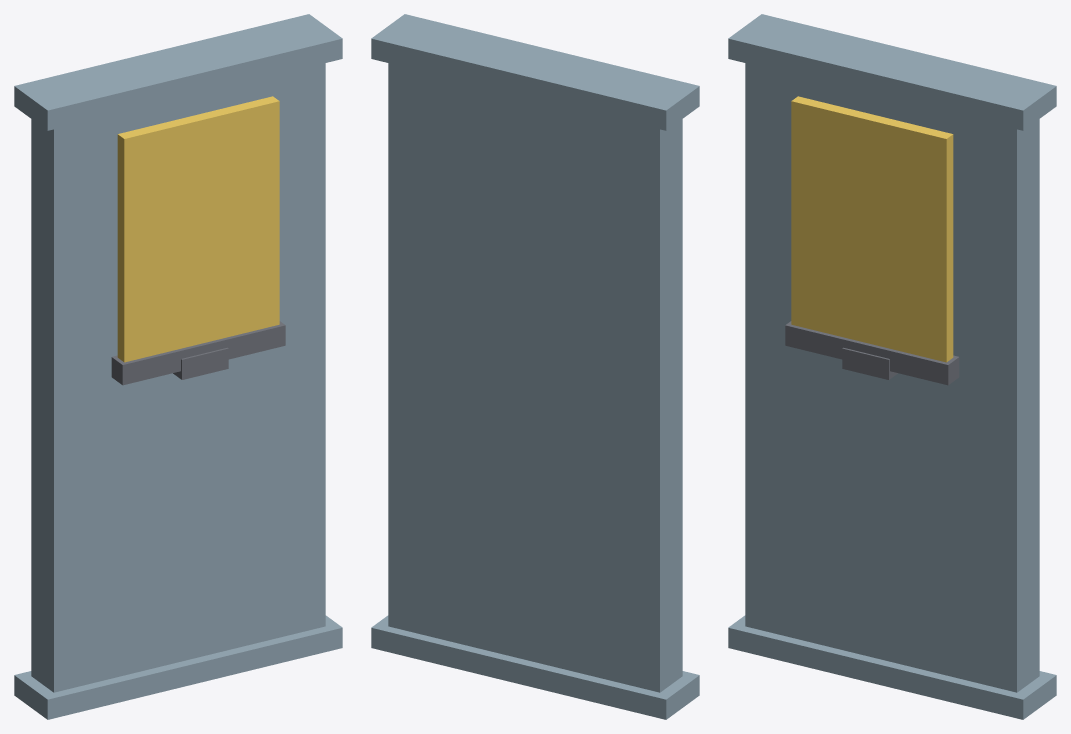
File: animated-mechanisms-kit-keypad-flip-cover-ce4ba164__24637.glb
The picture shows the model from 3 angles, left to right: view 1: azimuth 30°, elevation 25°; view 2: azimuth 150°, elevation 25°; view 3: azimuth 330°, elevation 25°; orthographic projection.
Visible parts, largest first — view 1: keypad-flip-cover, cover/accent, cover/iron; view 2: keypad-flip-cover; view 3: keypad-flip-cover, cover/accent, cover/iron.
Part boxes in pixels (bbox=[...]): keypad-flip-cover: bbox=[14, 14, 342, 719]; cover/accent: bbox=[117, 96, 279, 362]; cover/iron: bbox=[111, 321, 285, 385]; keypad-flip-cover: bbox=[371, 14, 699, 719]; keypad-flip-cover: bbox=[728, 14, 1056, 719]; cover/accent: bbox=[791, 96, 953, 362]; cover/iron: bbox=[785, 321, 959, 385].
Bounding box in the file's own units: 0.76 × 1.5 × 0.195.
